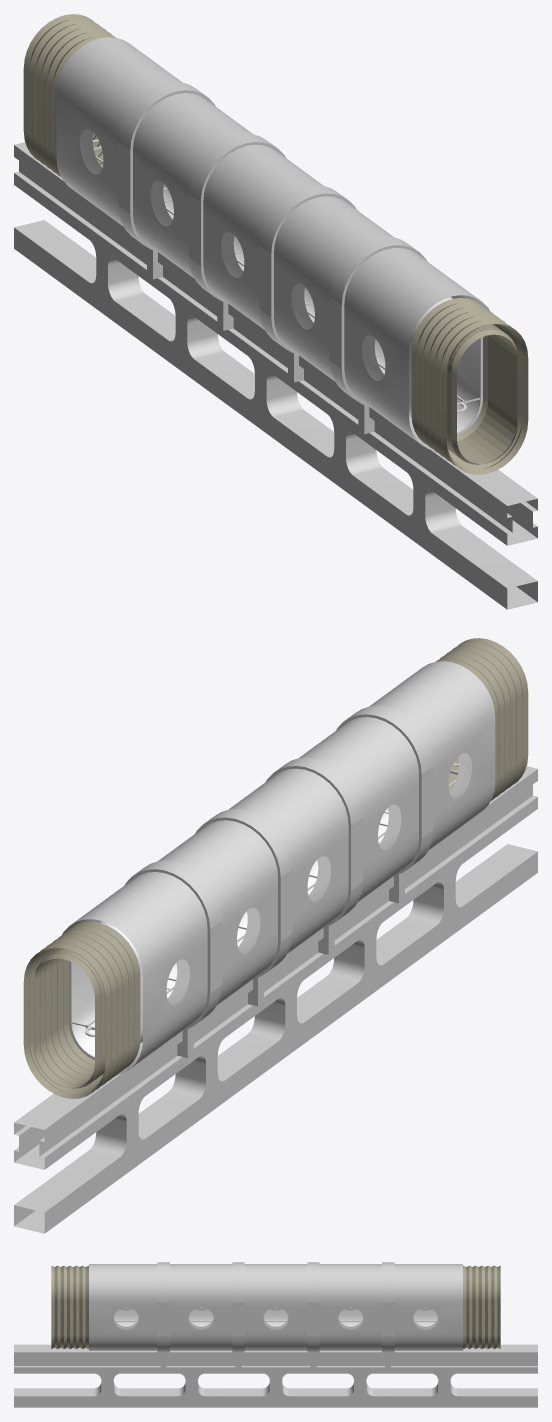
Rendered from bridge_alt_lowpoly.fbx.
3 views of the same model, one above another, from view 1: azimuth 30°, elevation 25°; view 2: azimuth 150°, elevation 25°; view 3: azimuth 270°, elevation 25° (orthographic). The views are drawn at different scales.
Parts seen in each view (by area): view 1: plasteel_combined, airlock_seals, plastic_combined, combined_chrome; view 2: plasteel_combined, airlock_seals, plastic_combined, combined_chrome; view 3: plasteel_combined, airlock_seals, plastic_combined, combined_chrome.
Boxes of the visible parts, left/top/right/bottom form: plasteel_combined: left=14, top=37, right=537, bottom=609; airlock_seals: left=23, top=14, right=528, bottom=474; plastic_combined: left=80, top=129, right=479, bottom=432; combined_chrome: left=92, top=139, right=482, bottom=435; plasteel_combined: left=14, top=661, right=537, bottom=1233; airlock_seals: left=23, top=638, right=528, bottom=1098; plastic_combined: left=72, top=753, right=471, bottom=1056; combined_chrome: left=69, top=763, right=459, bottom=1059; plasteel_combined: left=14, top=1262, right=537, bottom=1407; airlock_seals: left=51, top=1265, right=500, bottom=1349; plastic_combined: left=113, top=1309, right=438, bottom=1329; combined_chrome: left=115, top=1320, right=436, bottom=1326.
Bounding box in the file's own units: 4.5 × 12.25 × 42.
